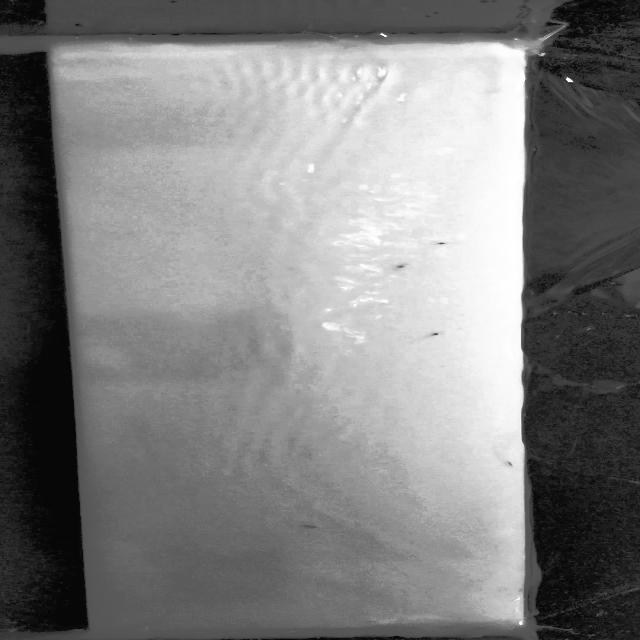shrimp: (381, 259, 419, 274), (419, 321, 453, 336), (435, 235, 459, 248), (298, 524, 328, 534)
